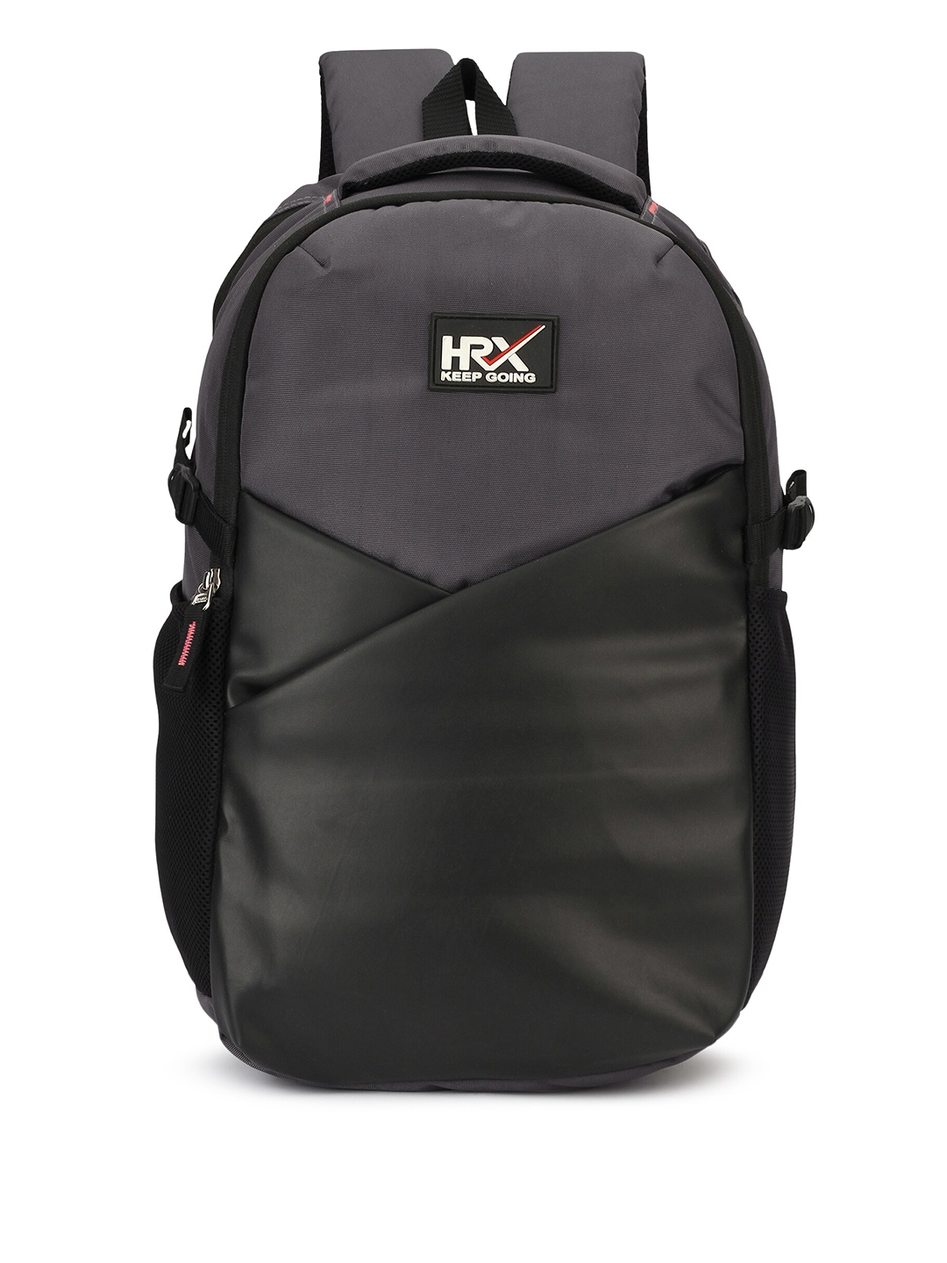backpack: (152, 48, 815, 1094)
